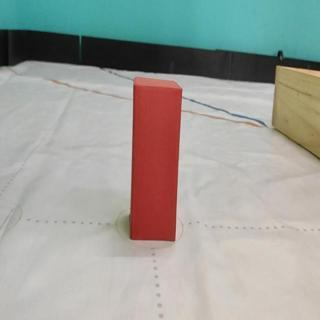redbox: (129, 78, 183, 240)
